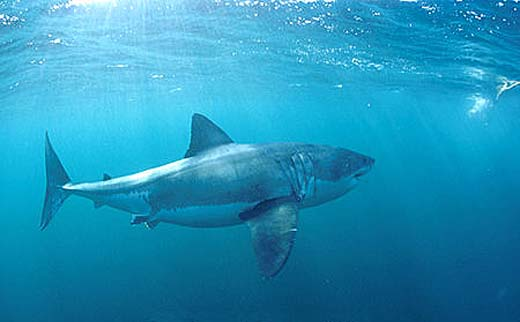Carcharodon_carcharias: (34, 110, 396, 287)
